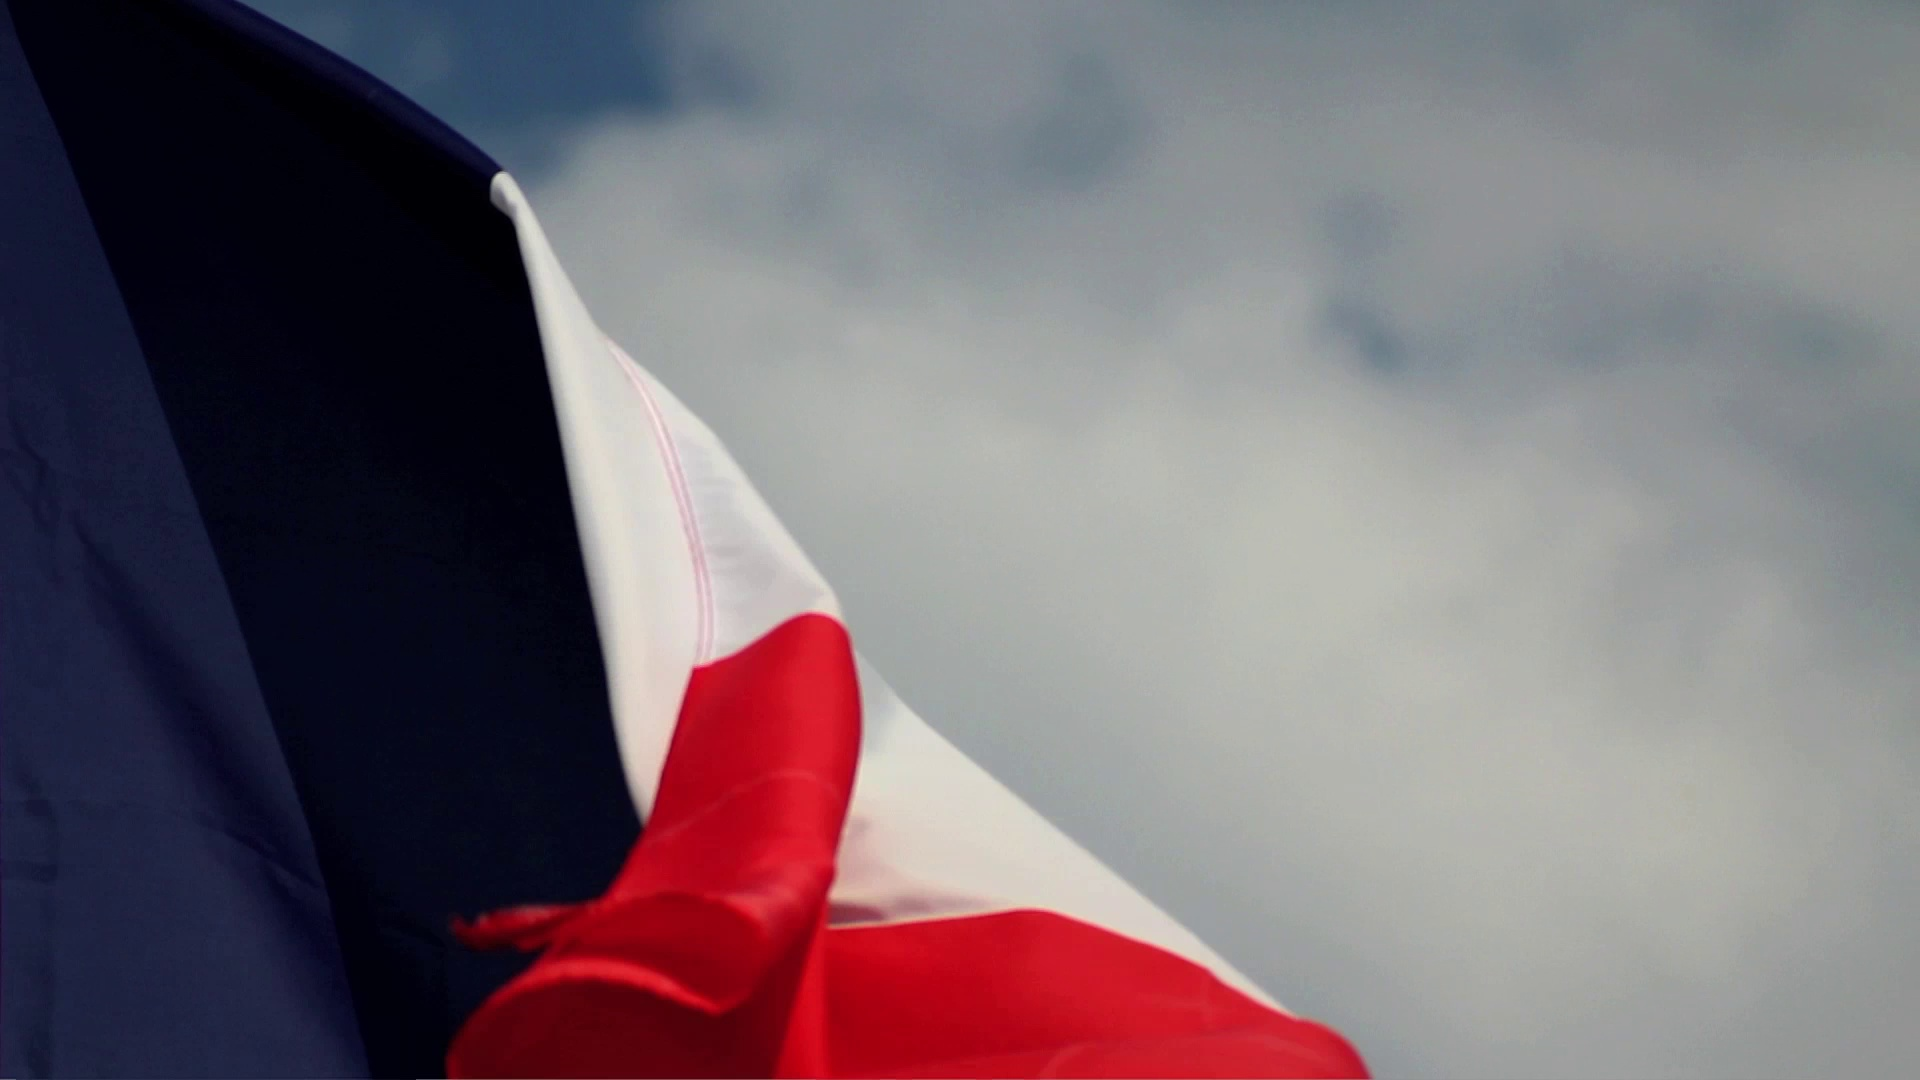French Flag: (1, 1, 1371, 1080)
